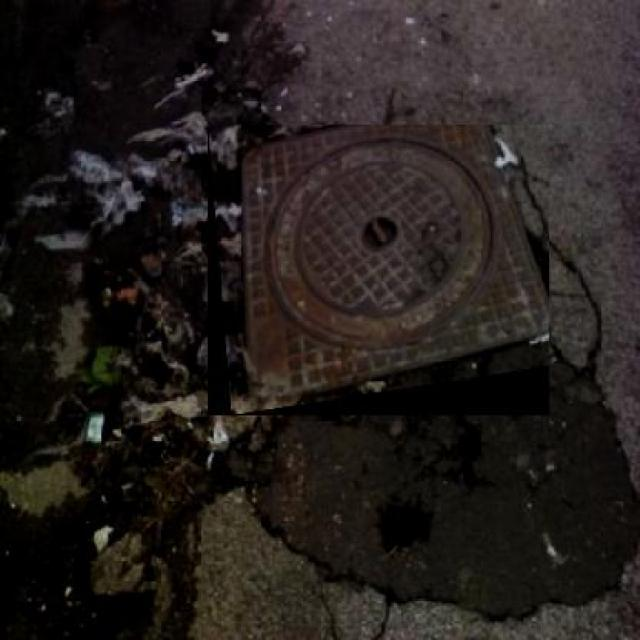Manhole: (250, 122, 560, 382)
Pothole: (0, 4, 251, 640), (257, 409, 640, 640)
